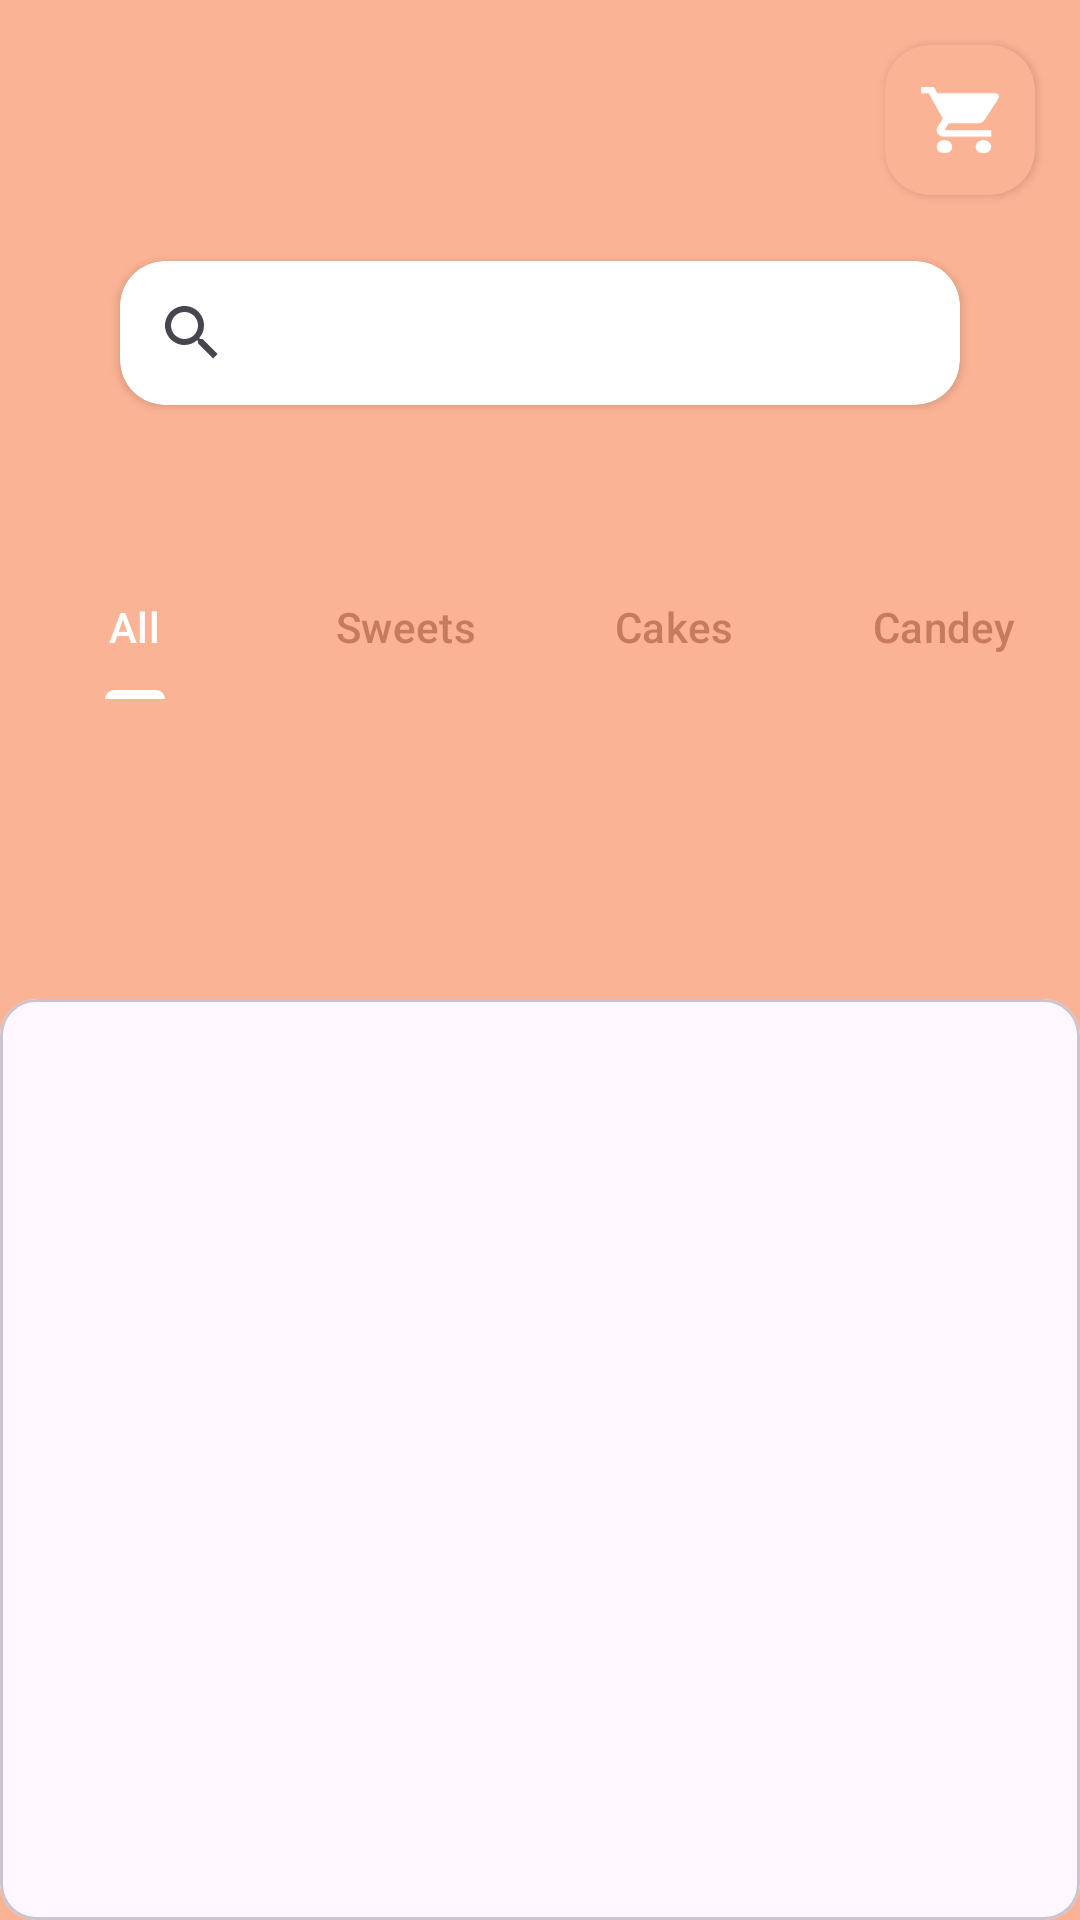

Icon bounding boxes for this 1080px x 1920px phone screenshot, format (left=x1, top=y1, right=x2, bottom=y2):
basket: (left=921, top=87, right=1035, bottom=176)
